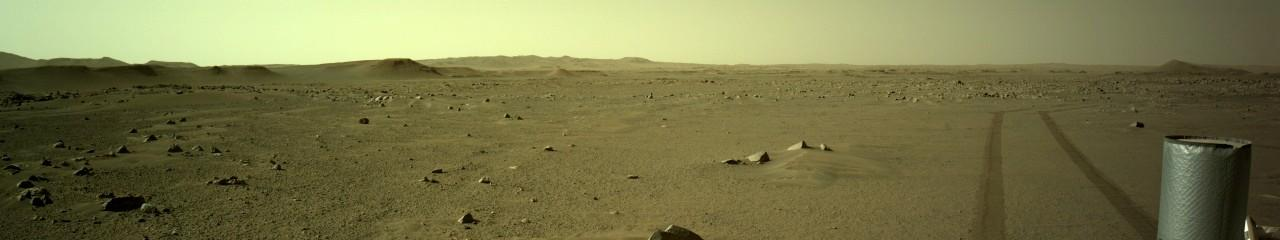bedrock: (819, 63, 1268, 75), (47, 83, 349, 97), (18, 77, 151, 84), (633, 63, 708, 73), (170, 77, 265, 82), (290, 76, 358, 81), (1232, 79, 1261, 89), (9, 78, 11, 84)
big_rock: (1241, 233, 1264, 236), (11, 76, 15, 77)
sand: (302, 48, 423, 73), (67, 48, 168, 76), (715, 57, 822, 72), (508, 56, 609, 71), (222, 54, 288, 76), (1148, 49, 1214, 69), (1265, 110, 1270, 172), (455, 237, 564, 238), (1273, 110, 1274, 120)
soil: (3, 72, 1279, 239), (61, 115, 134, 128), (221, 100, 298, 107), (424, 70, 556, 74), (230, 115, 297, 122), (1271, 128, 1274, 217), (20, 130, 42, 138), (715, 74, 803, 76), (1233, 141, 1253, 149), (1263, 219, 1275, 232), (510, 77, 581, 79), (1168, 105, 1213, 108), (770, 112, 816, 114), (608, 75, 630, 78), (1188, 91, 1211, 93), (608, 72, 630, 73), (1126, 79, 1136, 81), (1261, 193, 1262, 204), (755, 111, 766, 112)
